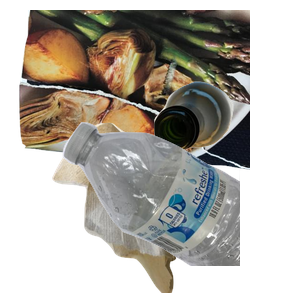glass: (151, 79, 300, 221)
paper: (16, 10, 256, 172)
plastic: (60, 120, 300, 300)
trash: (50, 120, 219, 300)
